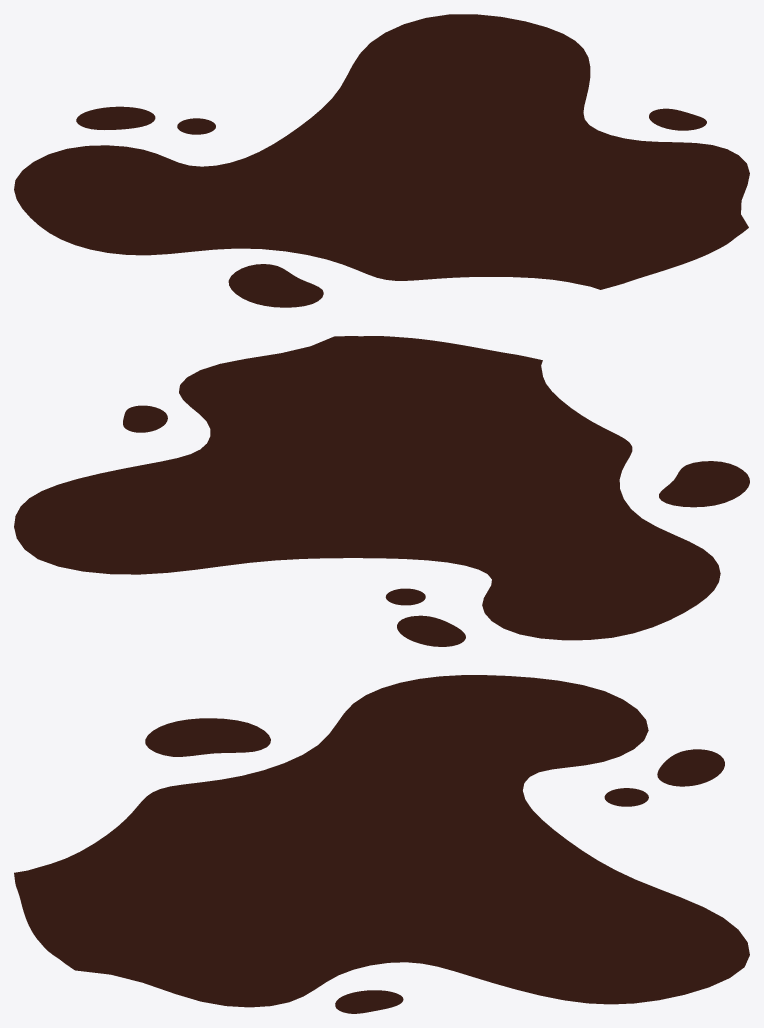
Rendered from coffee puddle.fbx.
3 views of the same model, one above another, from view 1: azimuth 30°, elevation 25°; view 2: azimuth 150°, elevation 25°; view 3: azimuth 270°, elevation 25° (orthographic). The views are drawn at different scales.
Parts seen in each view (by area): view 1: Plane; view 2: Plane; view 3: Plane.
Part boxes in pixels (x1,y1,x2,y2): Plane: [14, 14, 749, 307]; Plane: [14, 336, 749, 646]; Plane: [14, 675, 749, 1013].
Size of the model in its own units: 637 by 9.51e-05 by 584.
